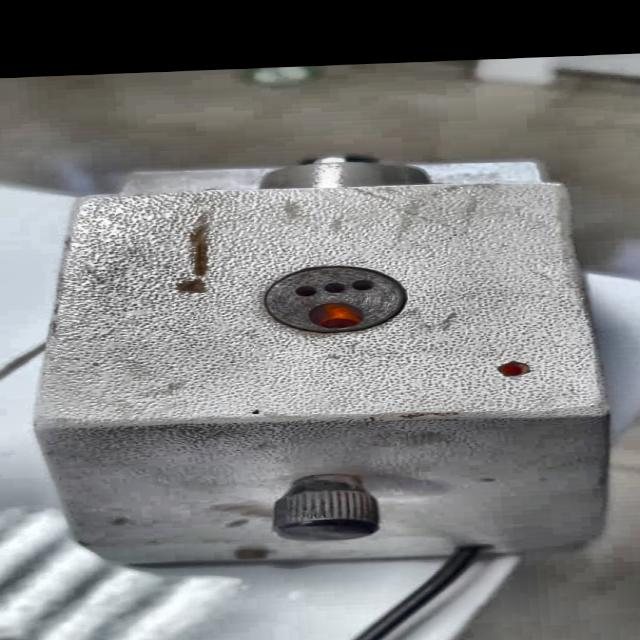Melting Point Apparatus: (5, 139, 632, 589)
